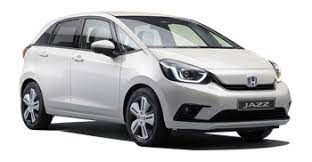Honda: (19, 11, 292, 147)
